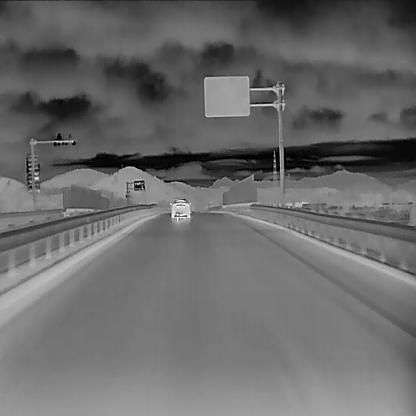car: (168, 196, 191, 219)
